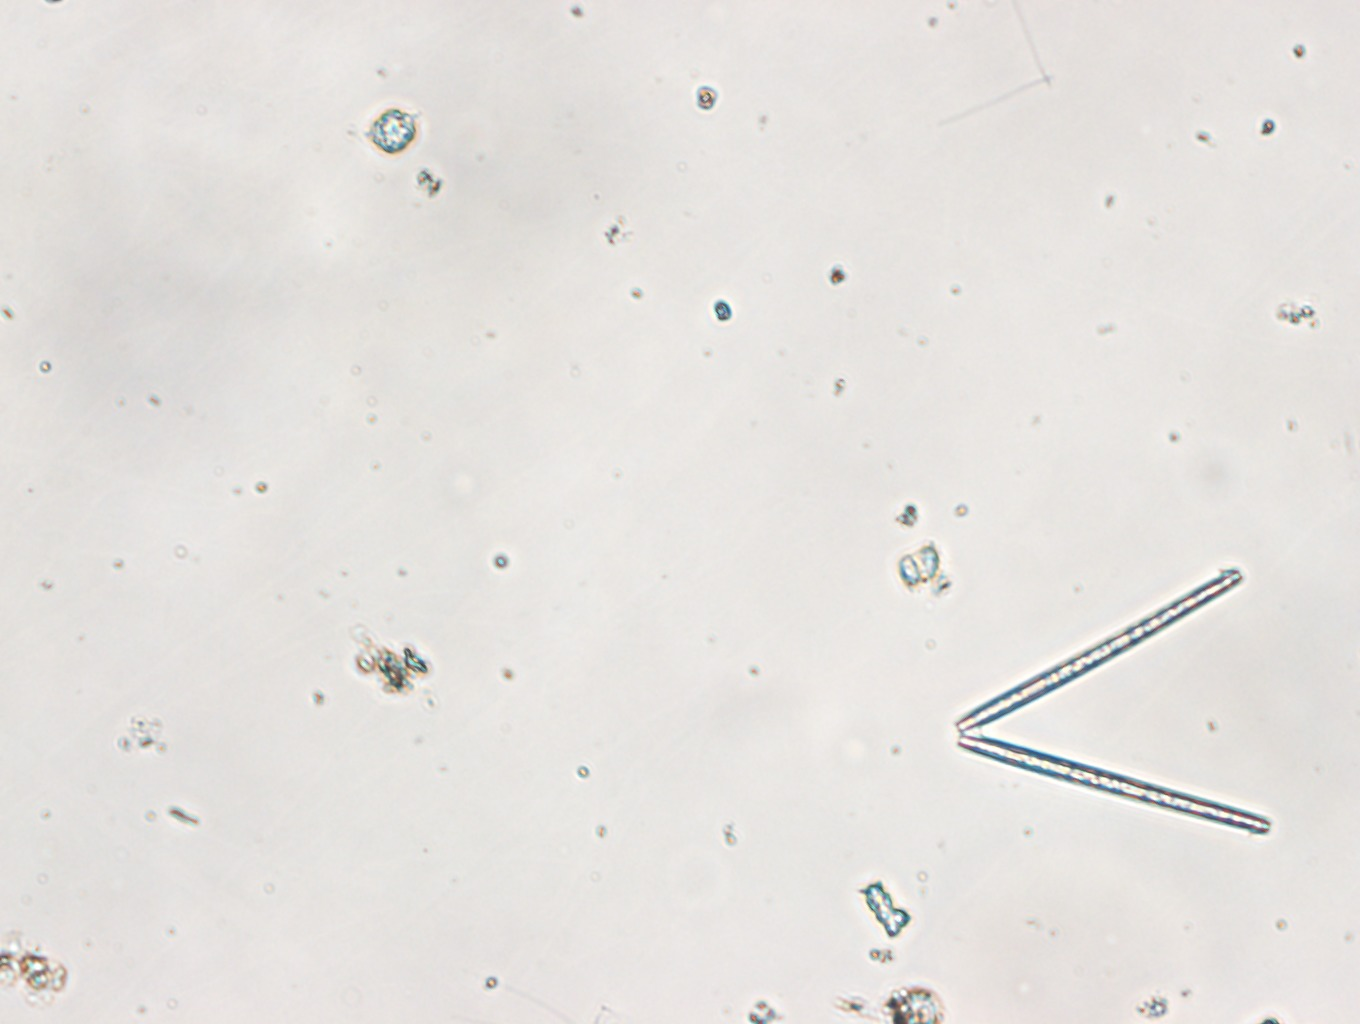thalassionema frauenfeldii: (953, 567, 1260, 839)
